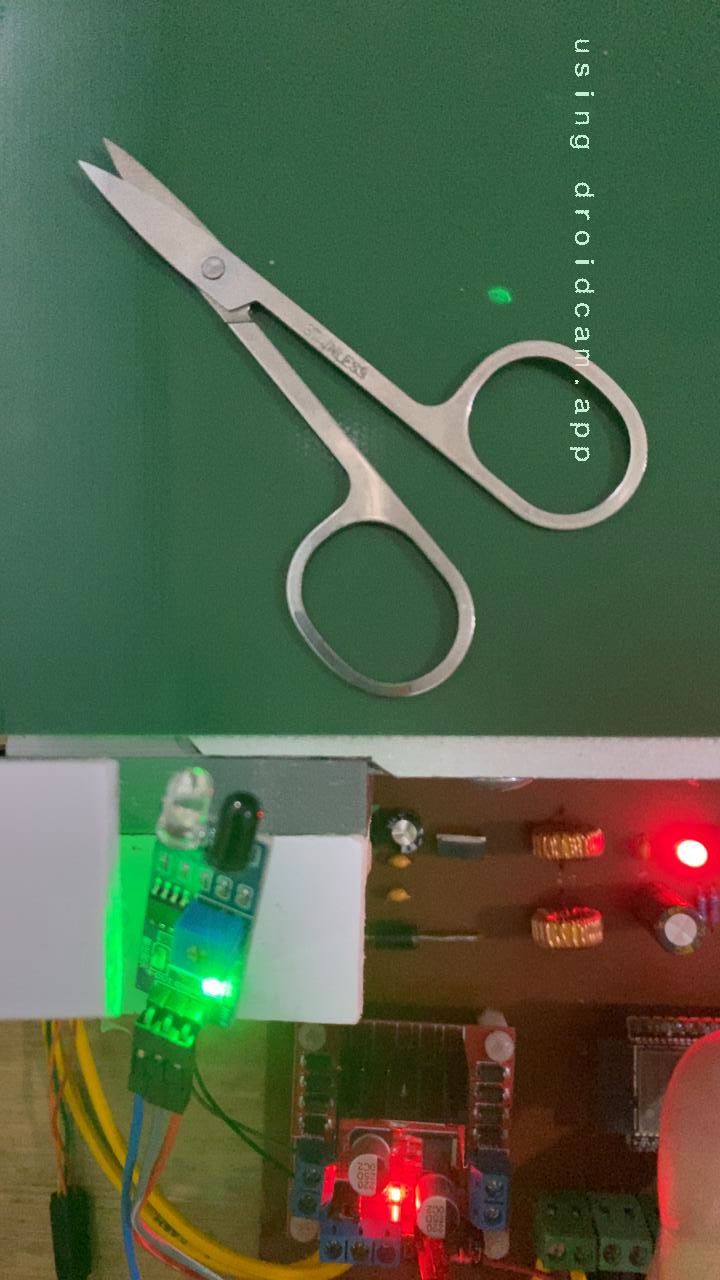scissor: (73, 133, 656, 705)
